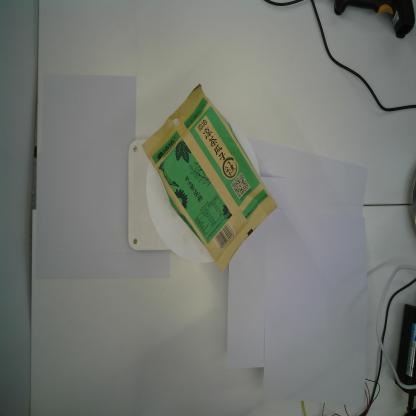Dried Food: (140, 81, 279, 275)
